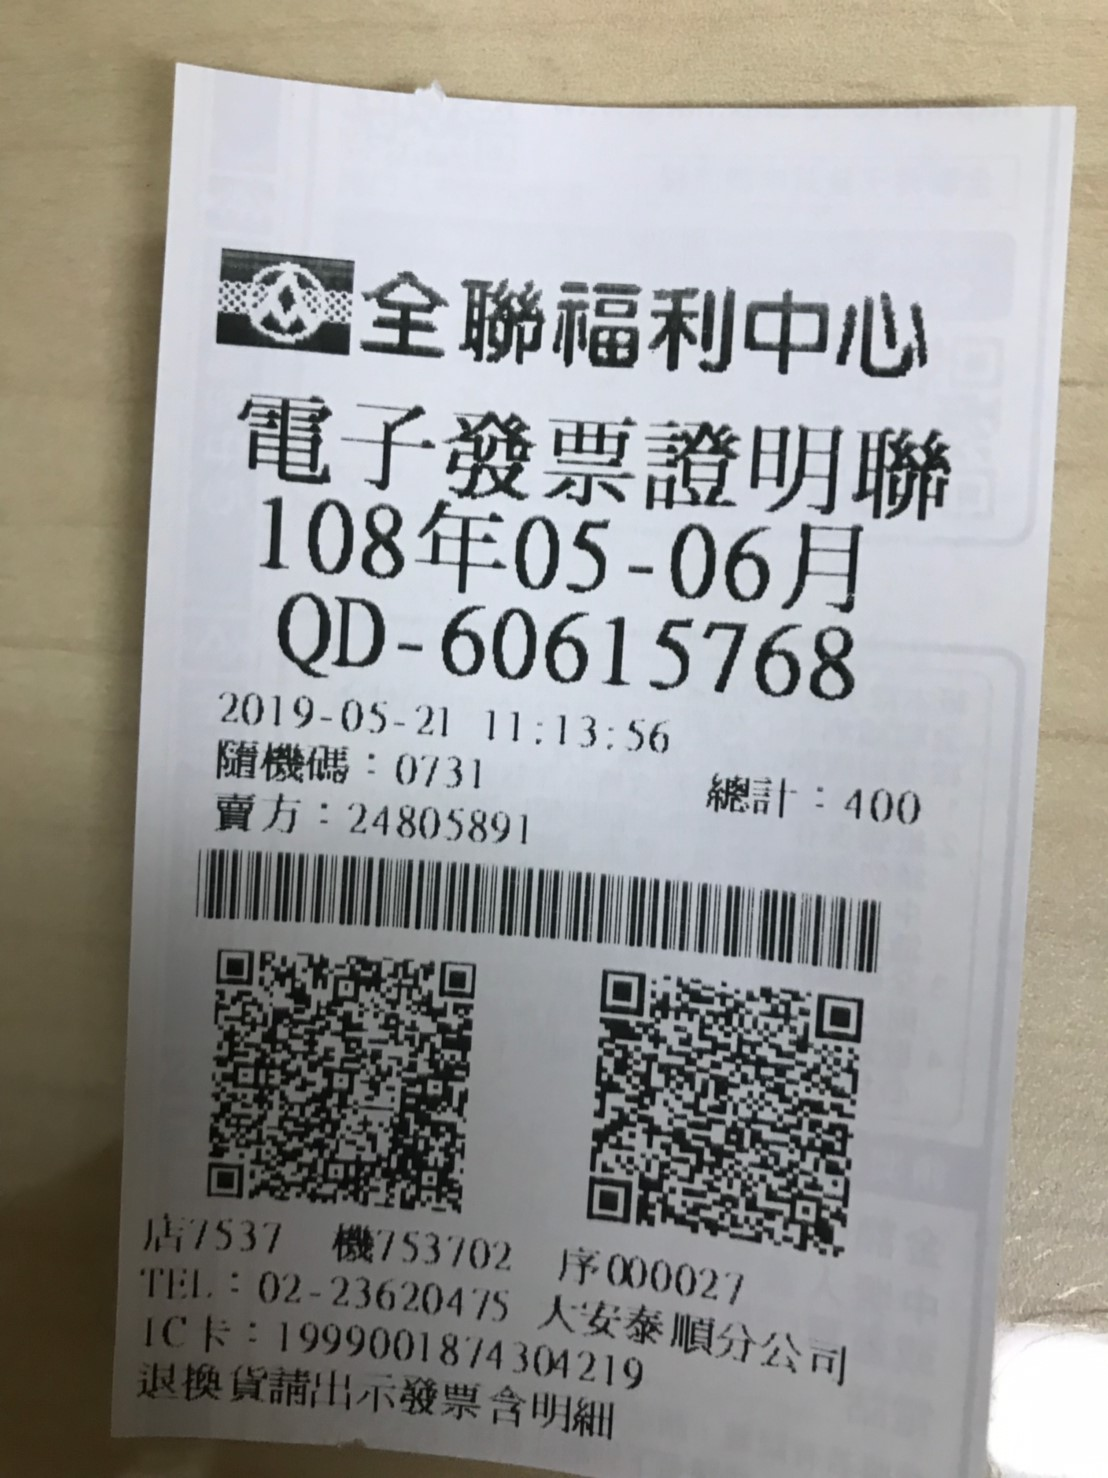Date_New: (254, 492, 865, 620)
Number_New: (440, 597, 865, 708)
